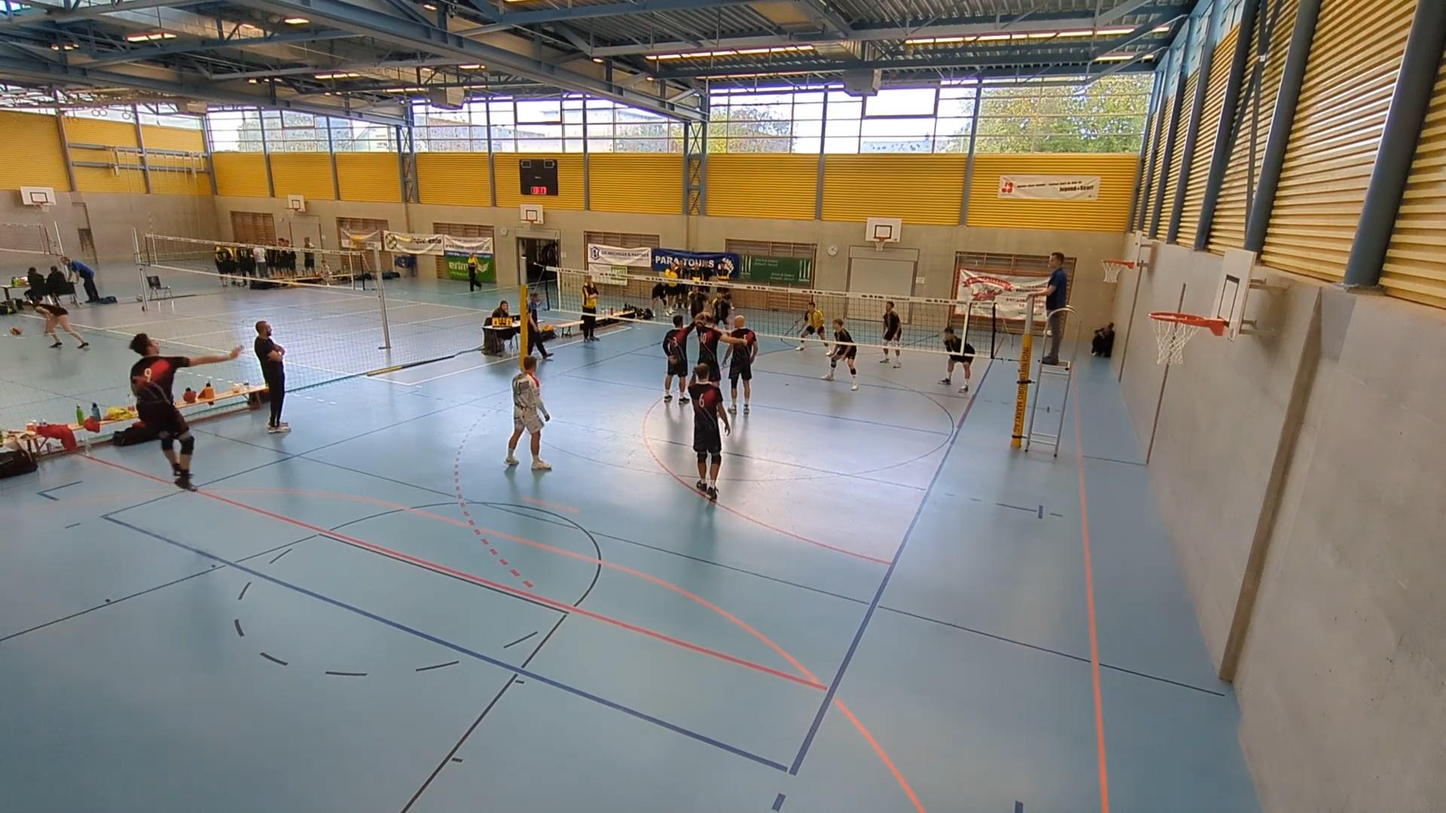battuta: (128, 330, 247, 496)
